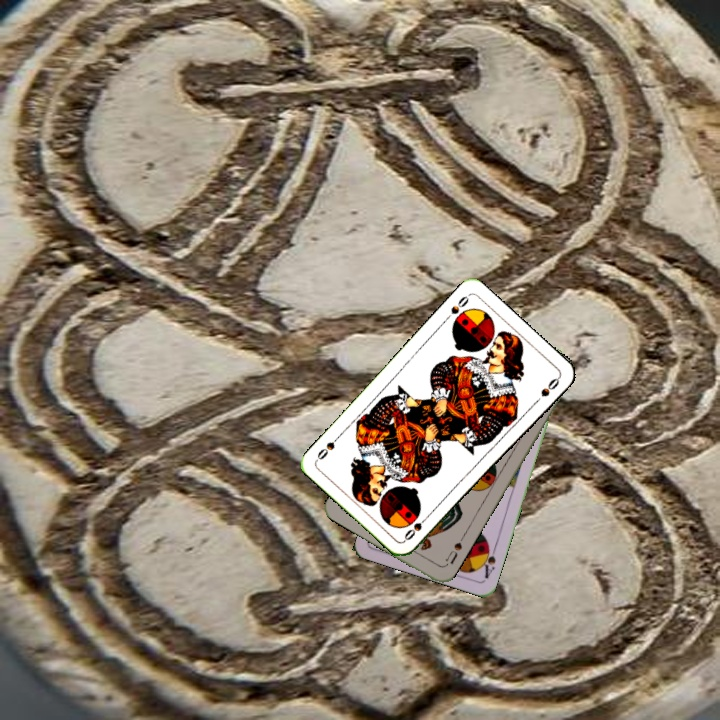SA: (477, 540, 499, 581)
SO: (440, 291, 472, 324), (400, 511, 432, 543)
SU: (440, 538, 465, 569)
